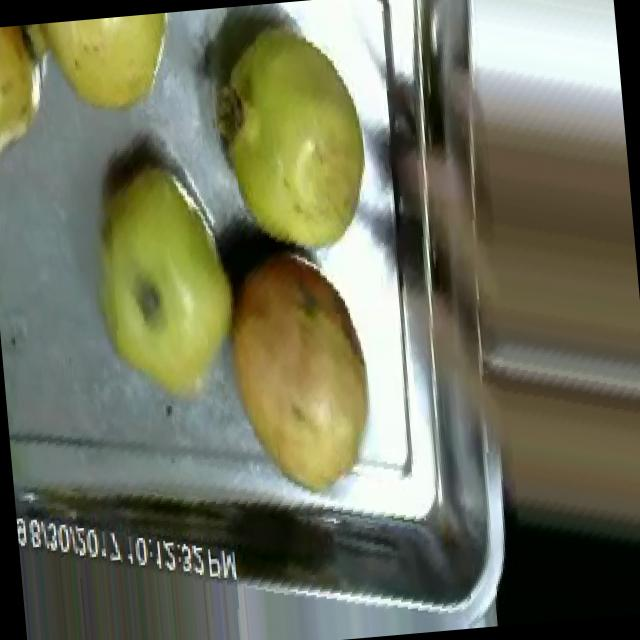fruit: (196, 0, 380, 271), (32, 11, 195, 138), (0, 22, 68, 204)
